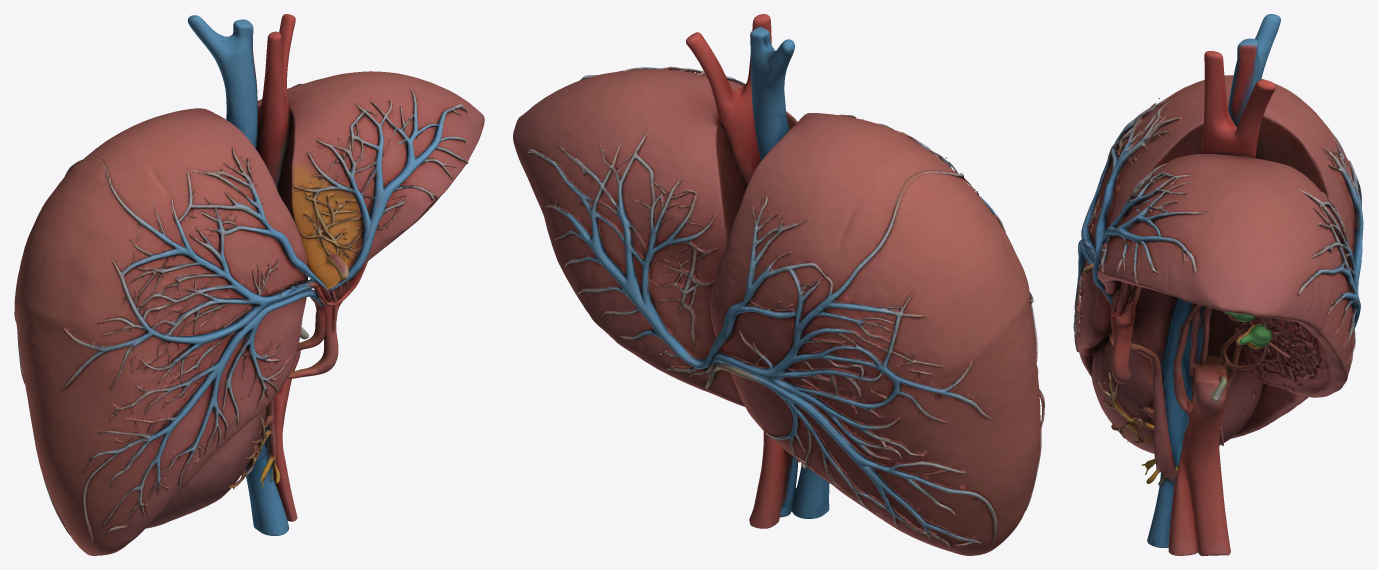
File: liver.glb
The picture shows the model from 3 angles, left to right: view 1: azimuth 30°, elevation 25°; view 2: azimuth 150°, elevation 25°; view 3: azimuth 270°, elevation 25°; orthographic projection. The views are drawn at different scales.
Visible parts, largest first — view 1: tripo_node_1c7e641c-603f-41bd-b81d-f90f99063845; view 2: tripo_node_1c7e641c-603f-41bd-b81d-f90f99063845; view 3: tripo_node_1c7e641c-603f-41bd-b81d-f90f99063845.
Part boxes in pixels (x1,y1,x2,y2): tripo_node_1c7e641c-603f-41bd-b81d-f90f99063845: [14, 14, 484, 555]; tripo_node_1c7e641c-603f-41bd-b81d-f90f99063845: [513, 14, 1044, 555]; tripo_node_1c7e641c-603f-41bd-b81d-f90f99063845: [1073, 14, 1363, 555].
Bounding box in the file's own units: 0.9932 × 1 × 0.5124.
1 material, 1 textured.
